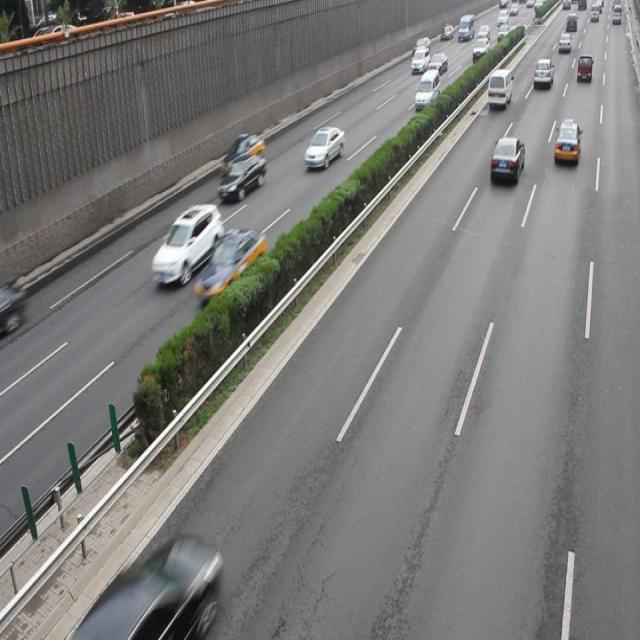car: (95, 538, 218, 640), (151, 202, 222, 285), (193, 228, 265, 301), (217, 153, 266, 201), (303, 125, 344, 168), (489, 135, 523, 185), (220, 136, 264, 174), (552, 120, 579, 164)
